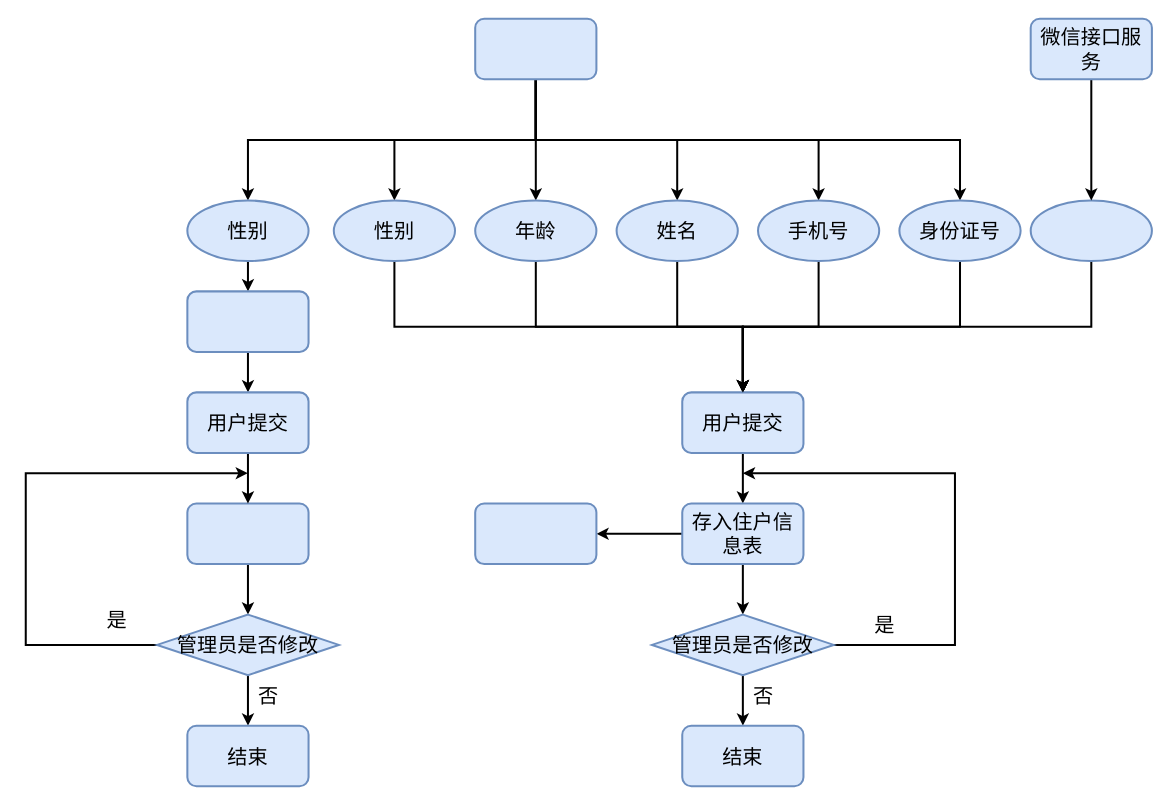
Some shapes in this 1170 by 804 pixel diagram are drawn without their labels. The shapes that lost their labels are listed below. From the top down, each one's box as (x1, y1, x2, y2) in pixels, then its label:
(474, 17, 597, 80): 用户填写个人信息
(1029, 199, 1152, 262): 身份标识
(186, 290, 309, 352): 用户提交个人照片
(186, 502, 309, 565): 存入人脸信息表
(474, 502, 597, 565): 用户查询个人信息
